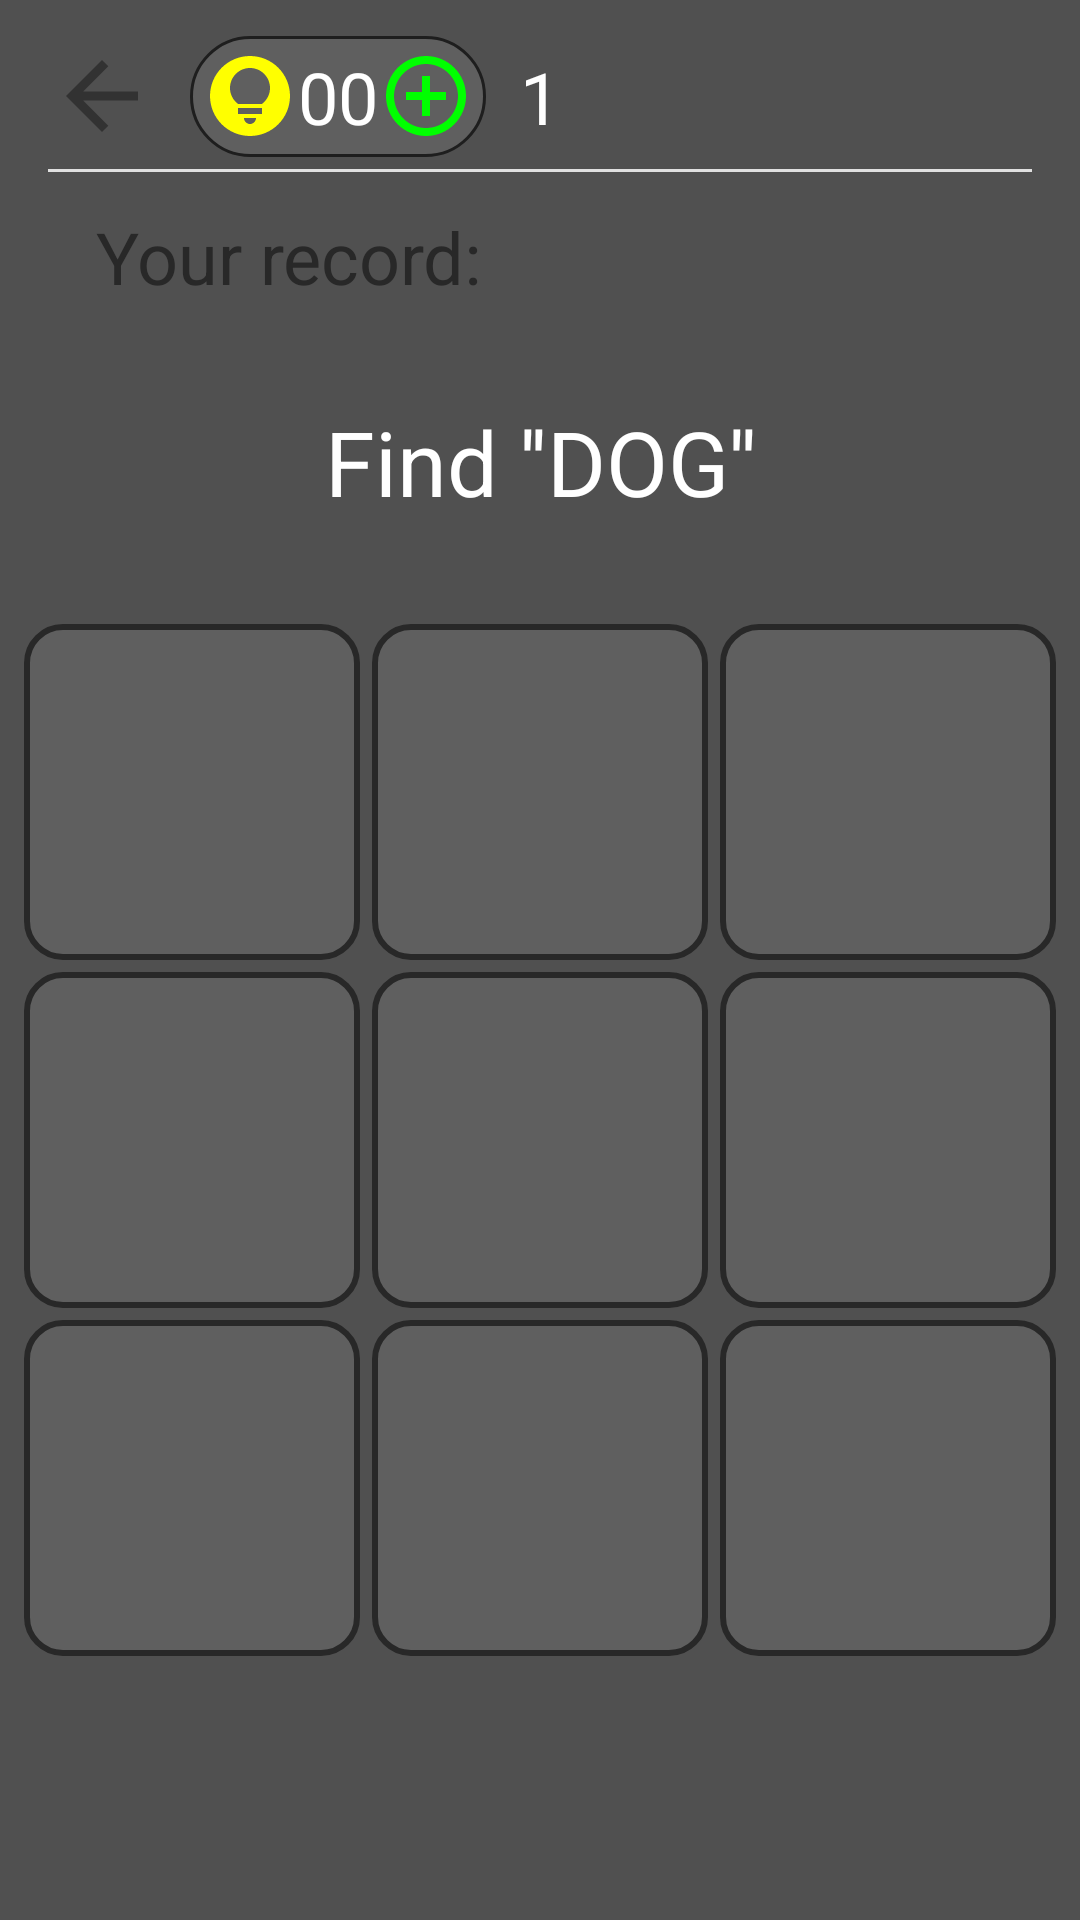

Point at icon controls on the screen. Image size 1080x1920, points as [x,y].
add circle: [426,96]
arrow back: [102,96]
lightbulb circle: [250,96]
